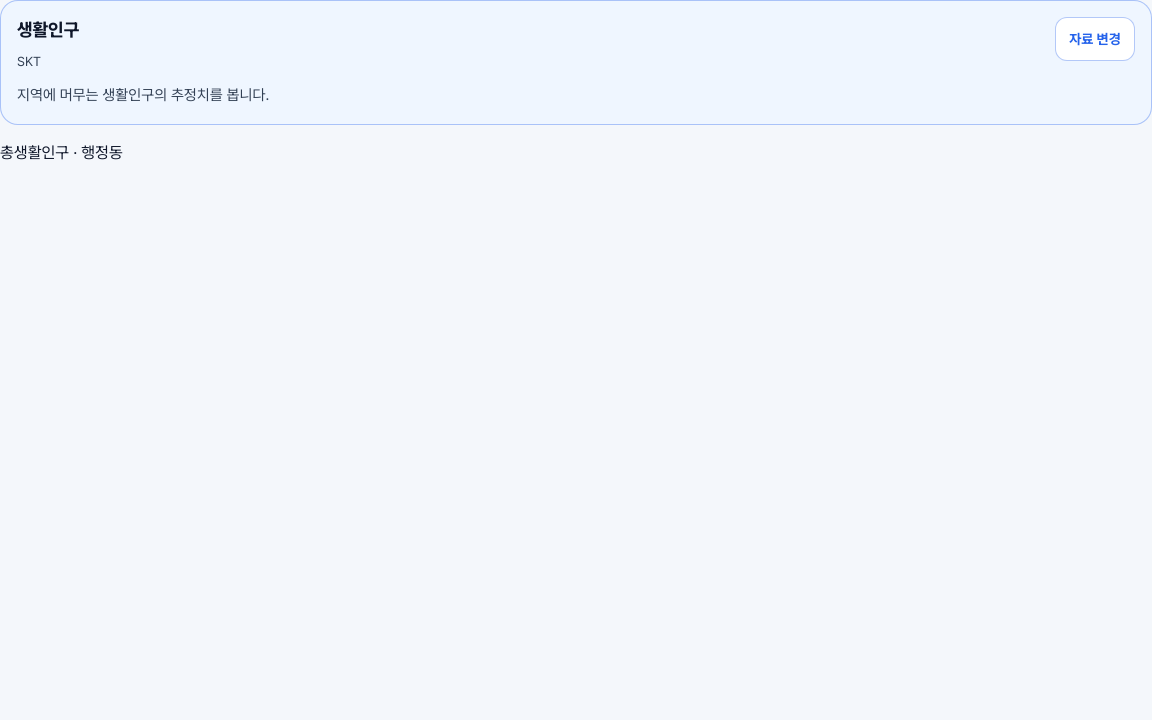
목적별 자료 선택 › 지표 트리거 유출 검색에서도 현재 지표 조건은 사라지지 않는다
Step 1. Click the button "자료 변경" → (1095, 39), box top-left (1055, 17), bottom-right (1135, 61)
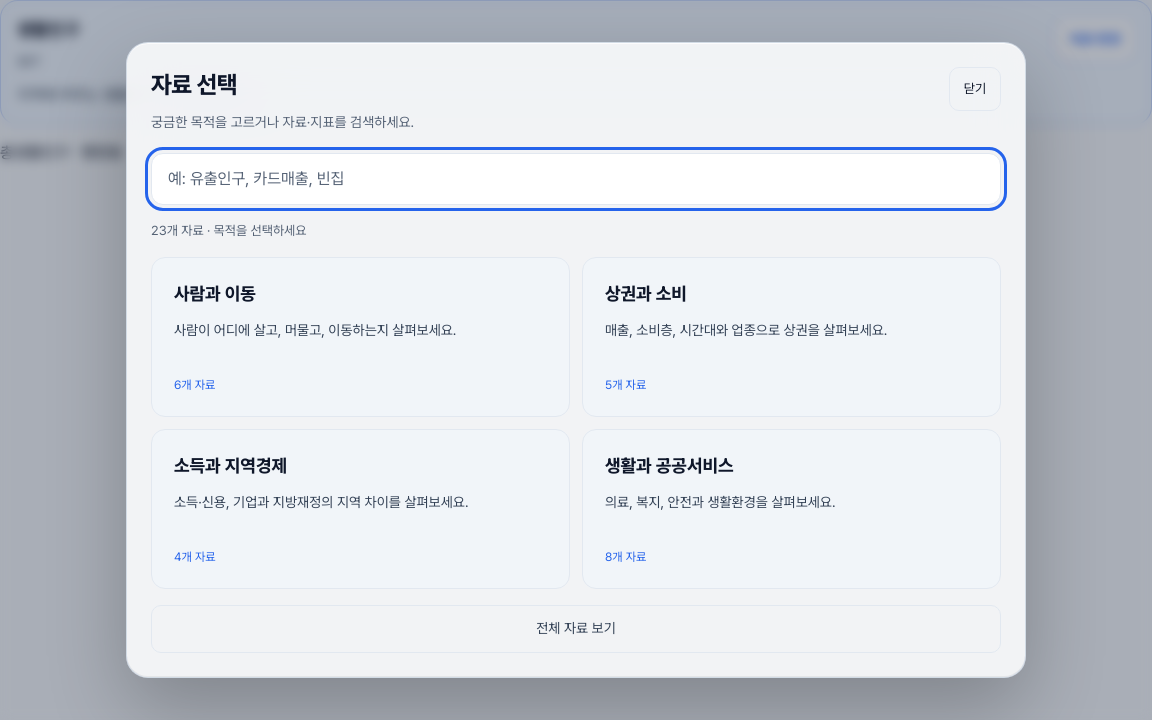
Step 2. Type "유출" into the search field named "자료 검색" → (576, 179), box top-left (151, 153), bottom-right (1001, 205)
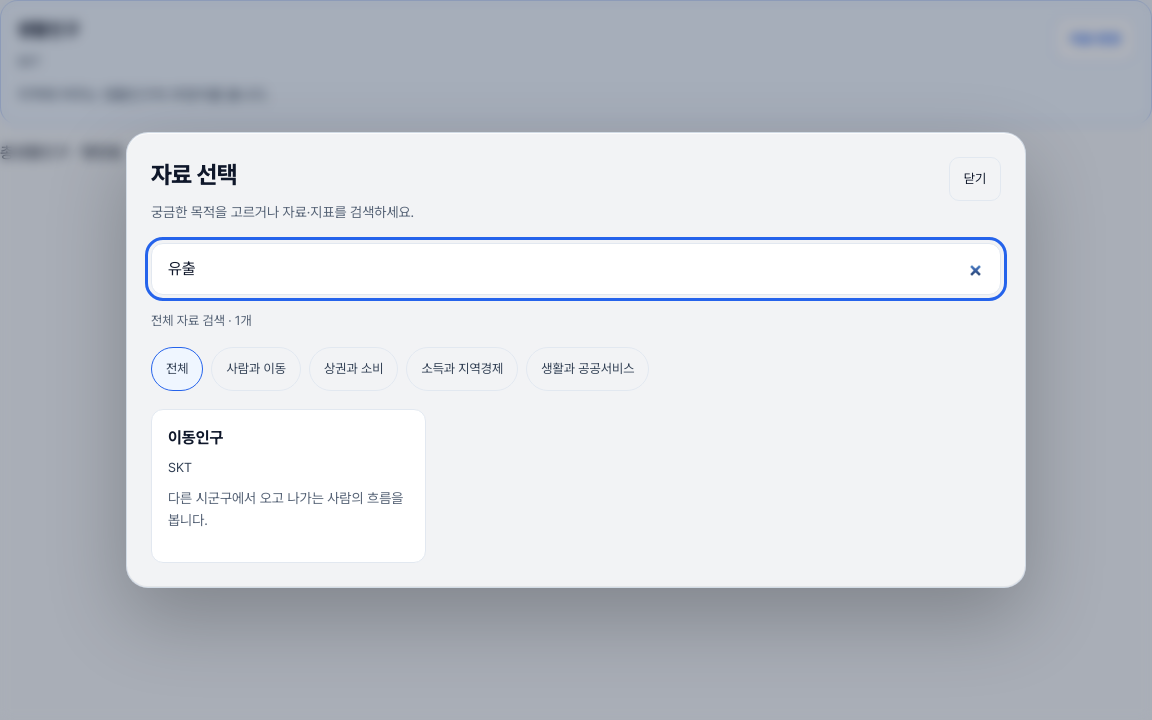
Expected: the text with test id "metric-context" reads "총생활인구 · 행정동", top-left (0, 143), bottom-right (123, 162)
Expected: the button "이동인구 SKT 다른 시군구에서 오고 나가는 사람의 흐름을 봅니다." is shown, top-left (151, 409), bottom-right (426, 563)
Expected: the message shows "1개", top-left (151, 313), bottom-right (252, 328)
